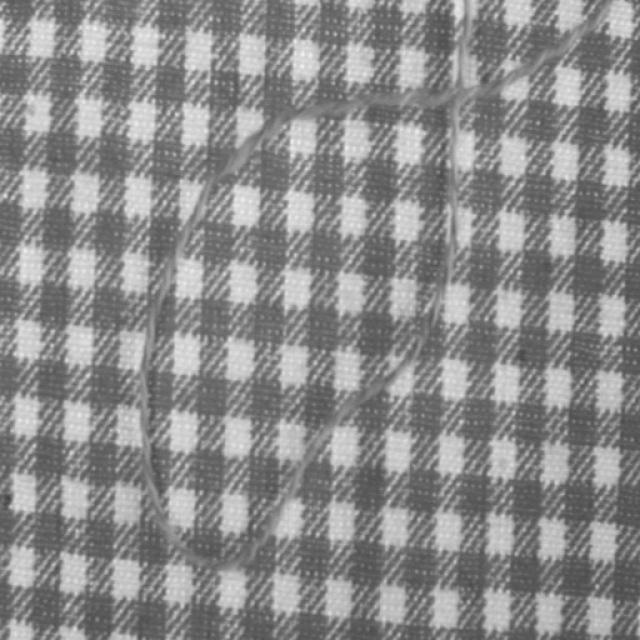Foreign-Body-Defect: (137, 92, 471, 572), (471, 4, 611, 103), (450, 0, 485, 92)
